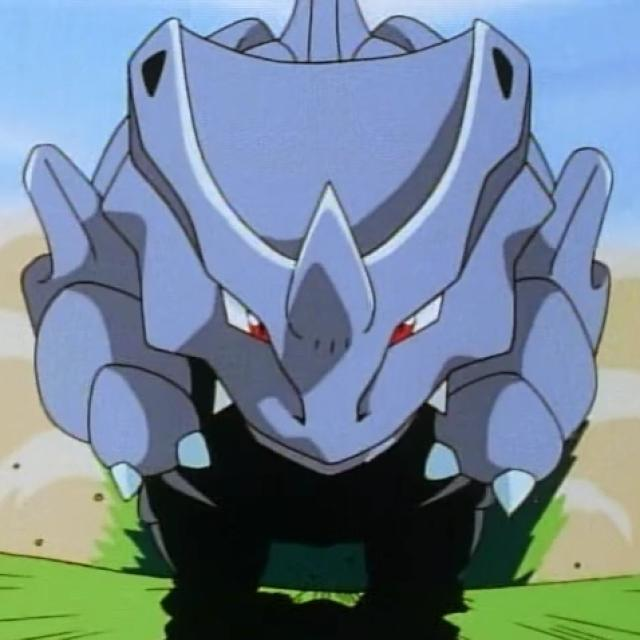Rhyhorn: (33, 18, 601, 475)
